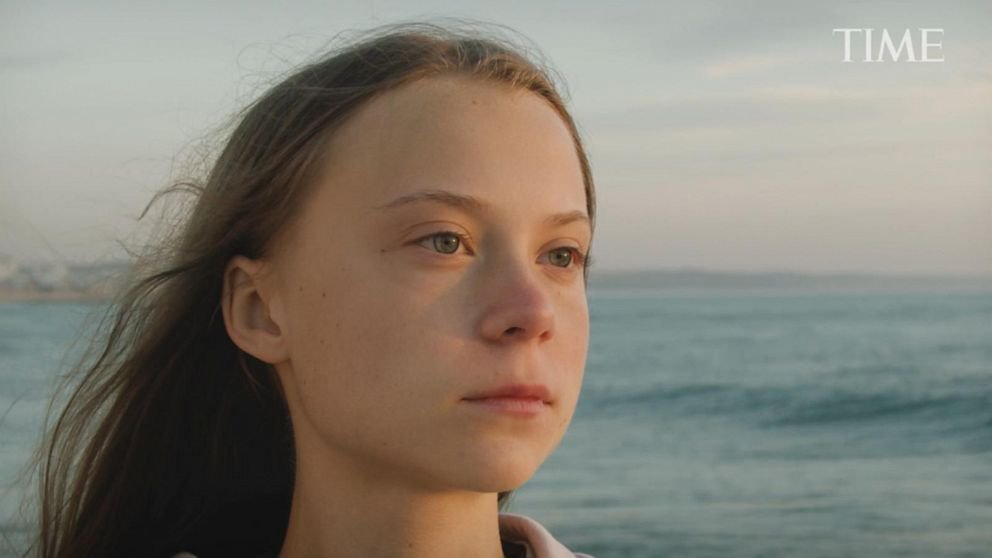noMask: (182, 20, 617, 511)
